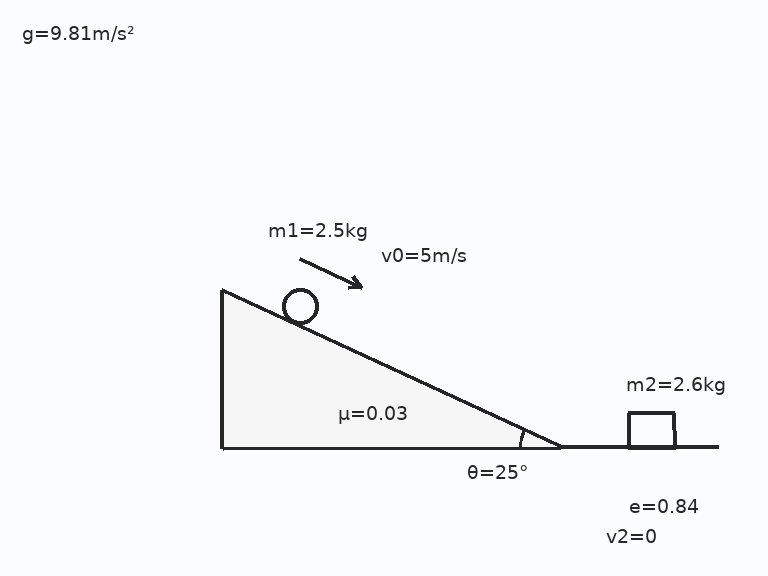ball: (280, 286, 320, 326)
block: (626, 411, 676, 449)
ramp: (219, 287, 562, 449)
